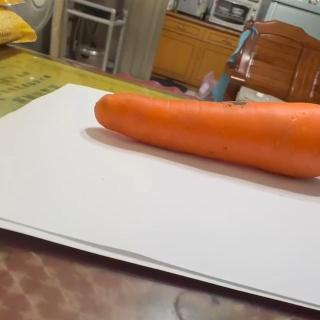carrot: (94, 91, 320, 179)
